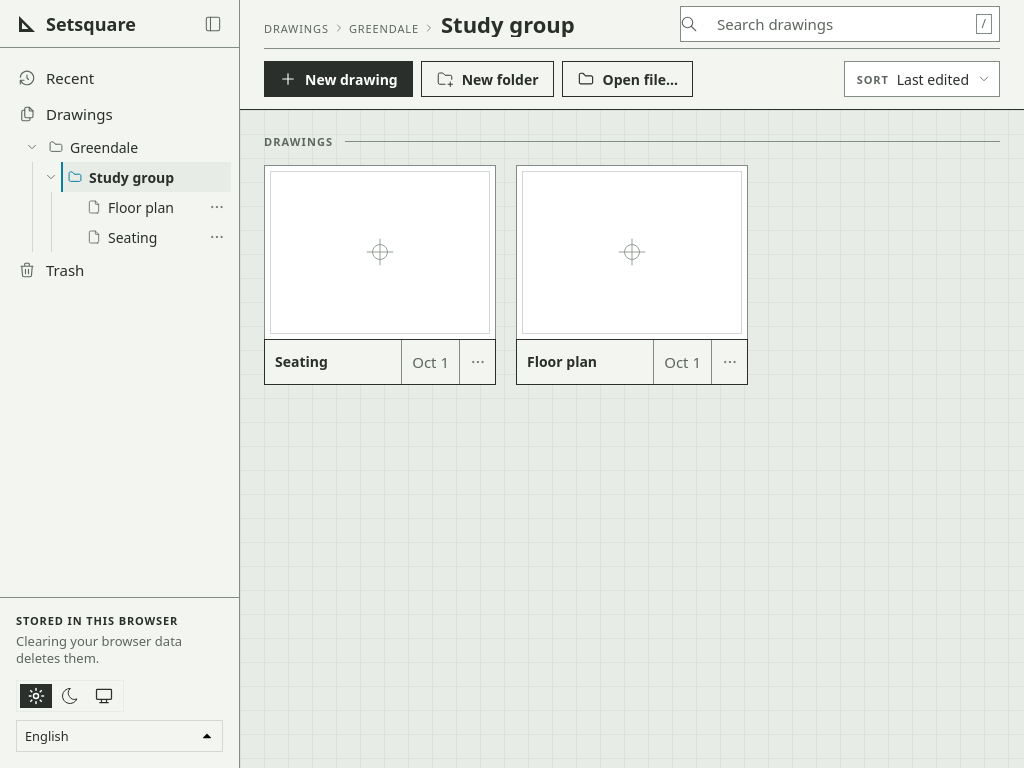
Test: moving to the Trash from the page › trashes a card from its menu, and Undo takes it back
This screenshot has width=1024, height=768.
Click the 2nd button named "Actions for Floor plan" at (729, 362), box [711, 340, 747, 384]
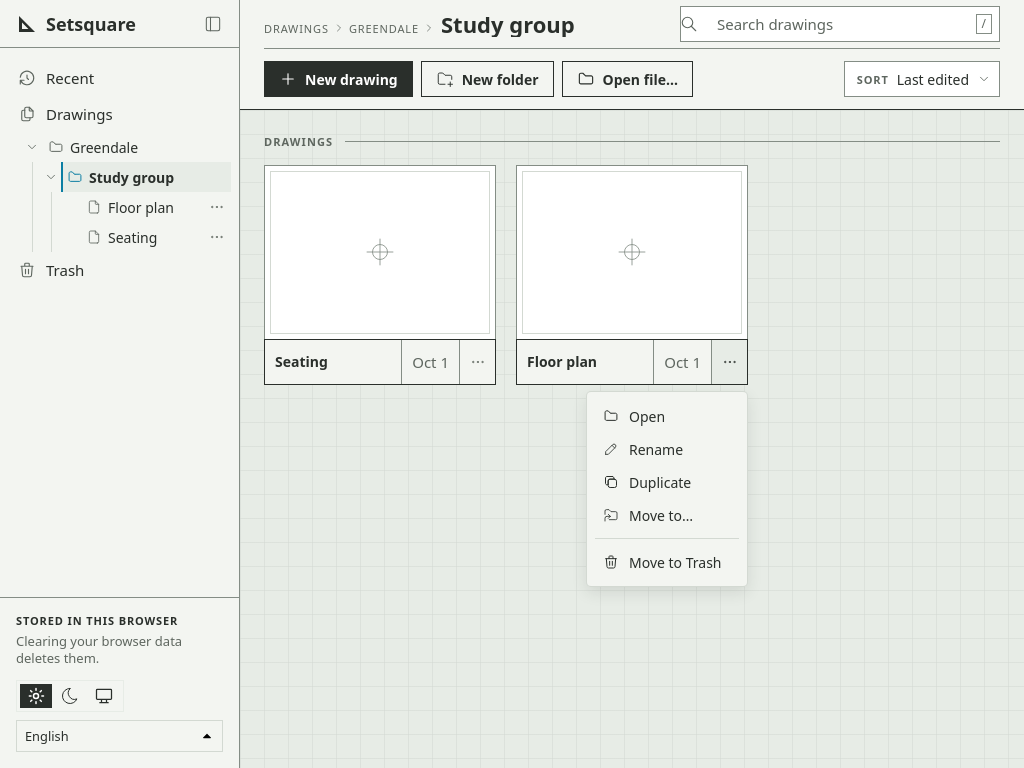
Click the menu item "Move to Trash" at (667, 562), box [595, 546, 739, 578]
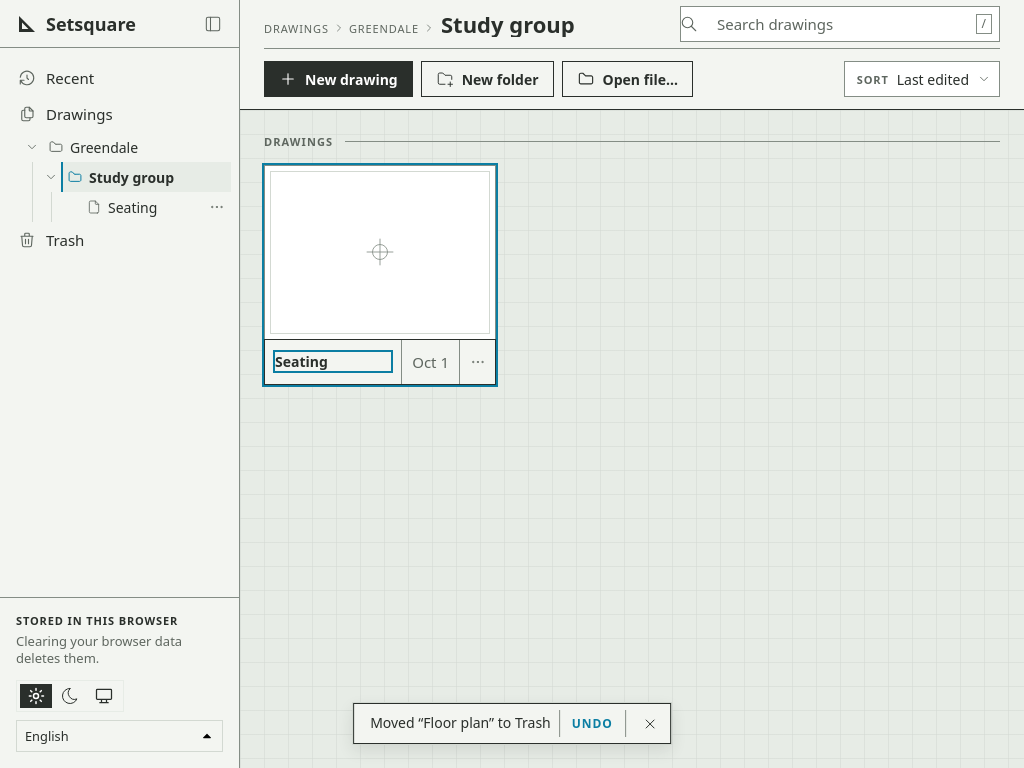
Click the button "Undo" at (592, 724), box [559, 710, 626, 737]
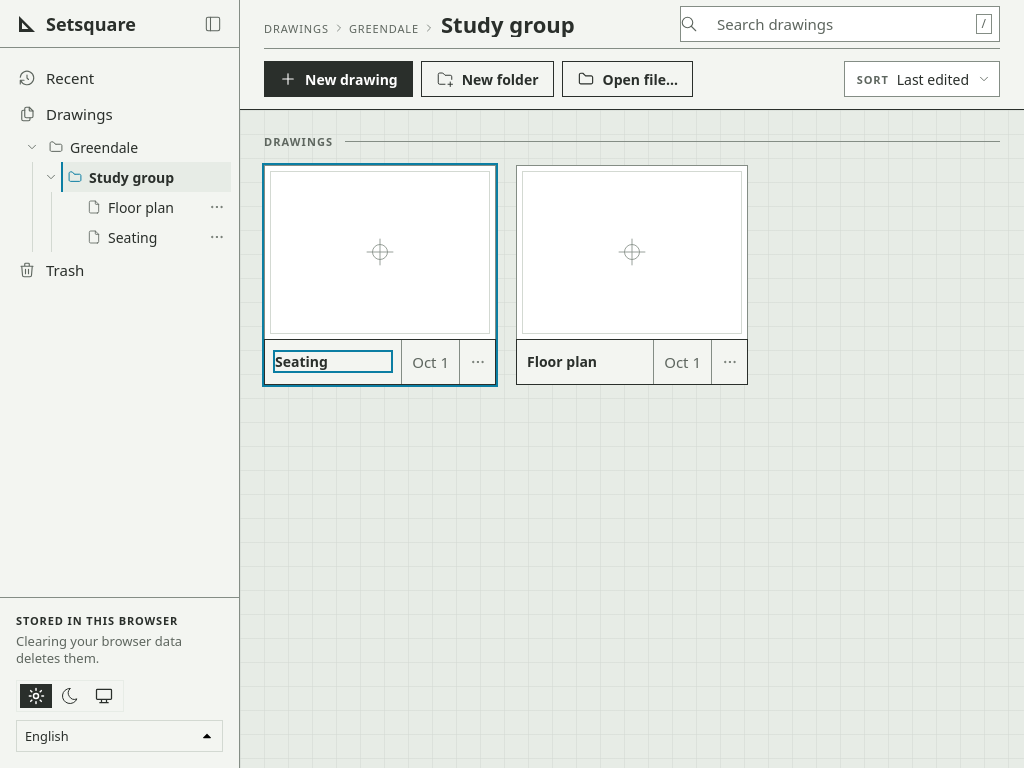
Now the 2nd link "Floor plan" is shown, box [527, 352, 597, 371]
